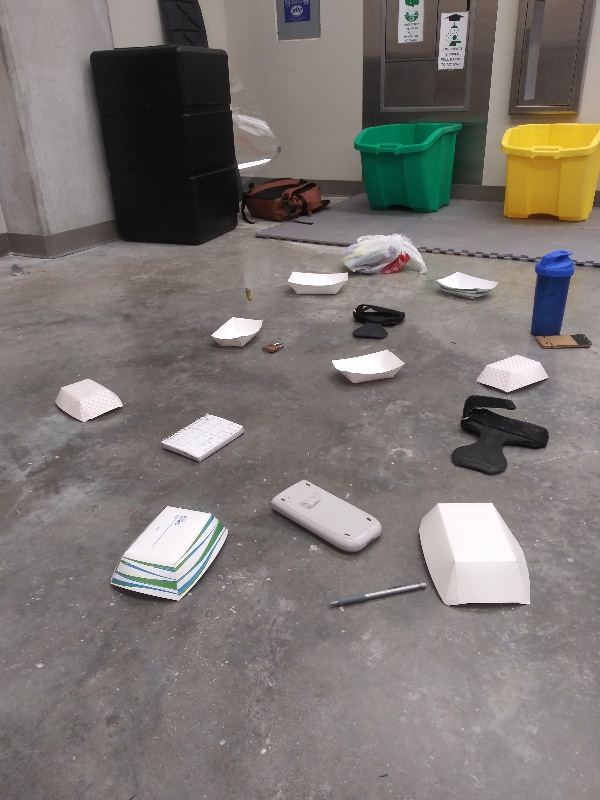plate: (414, 495, 541, 616), (106, 502, 238, 611), (48, 373, 129, 426), (325, 346, 410, 393), (467, 351, 552, 397), (201, 311, 271, 354), (428, 268, 505, 305), (283, 264, 353, 301)
